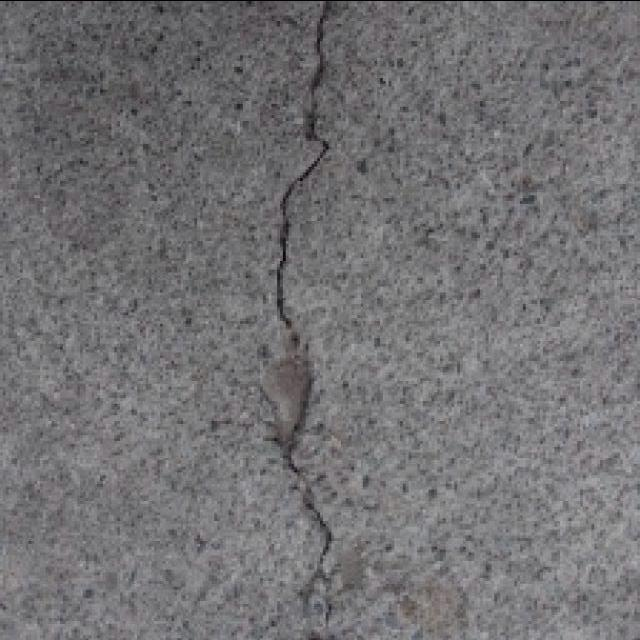SurfaceCrack: (232, 0, 388, 640)
